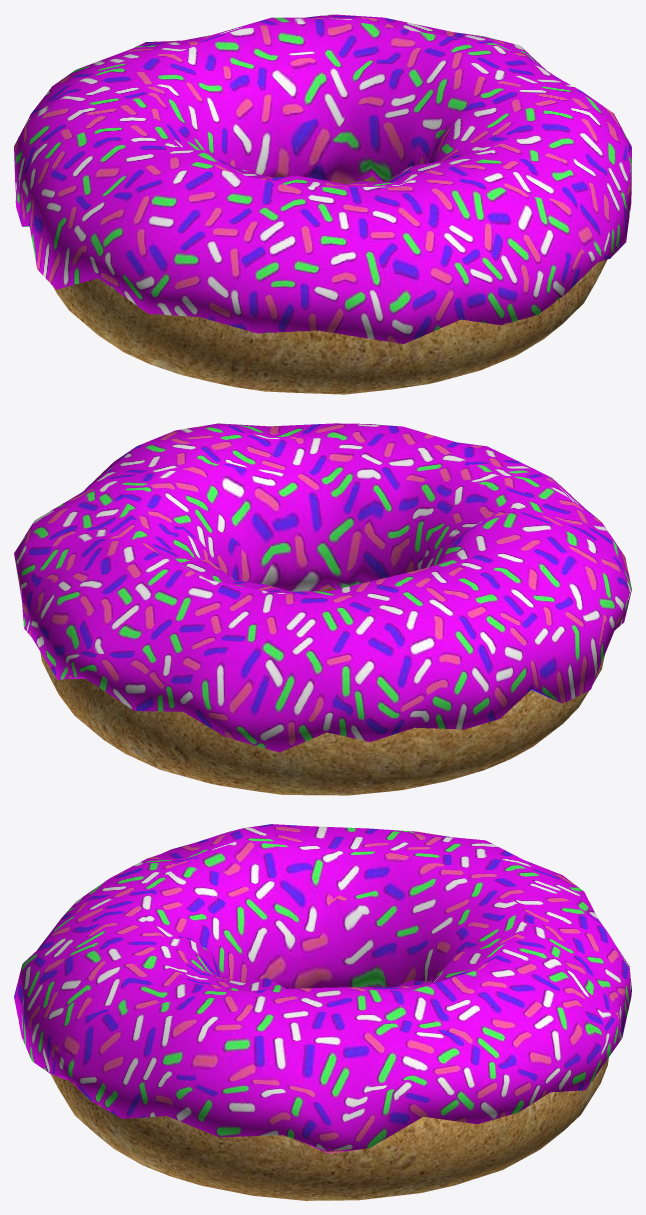
The model's file is Donut.fbx.
3 views of the same model, one above another, from view 1: azimuth 30°, elevation 25°; view 2: azimuth 150°, elevation 25°; view 3: azimuth 270°, elevation 25° (orthographic).
Parts seen in each view (by area): view 1: Donut; view 2: Donut; view 3: Donut.
Part boxes in pixels (x1,y1,x2,y2): Donut: [14, 14, 631, 394]; Donut: [14, 423, 631, 795]; Donut: [14, 824, 631, 1200].
Bounding box in the file's own units: 312 × 113 × 317.
2 materials, 2 textured.
